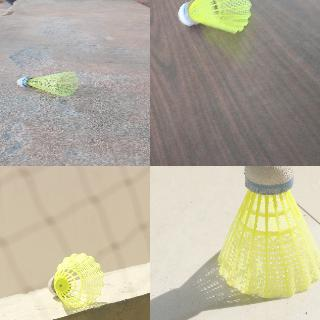shuttlecock: (218, 166, 319, 298), (48, 253, 104, 307), (179, 0, 252, 35), (15, 71, 79, 97)
